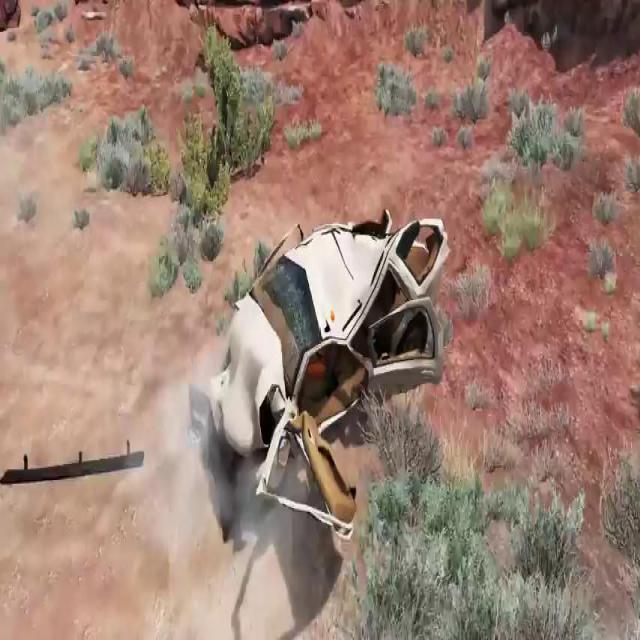accident: (186, 187, 451, 549)
